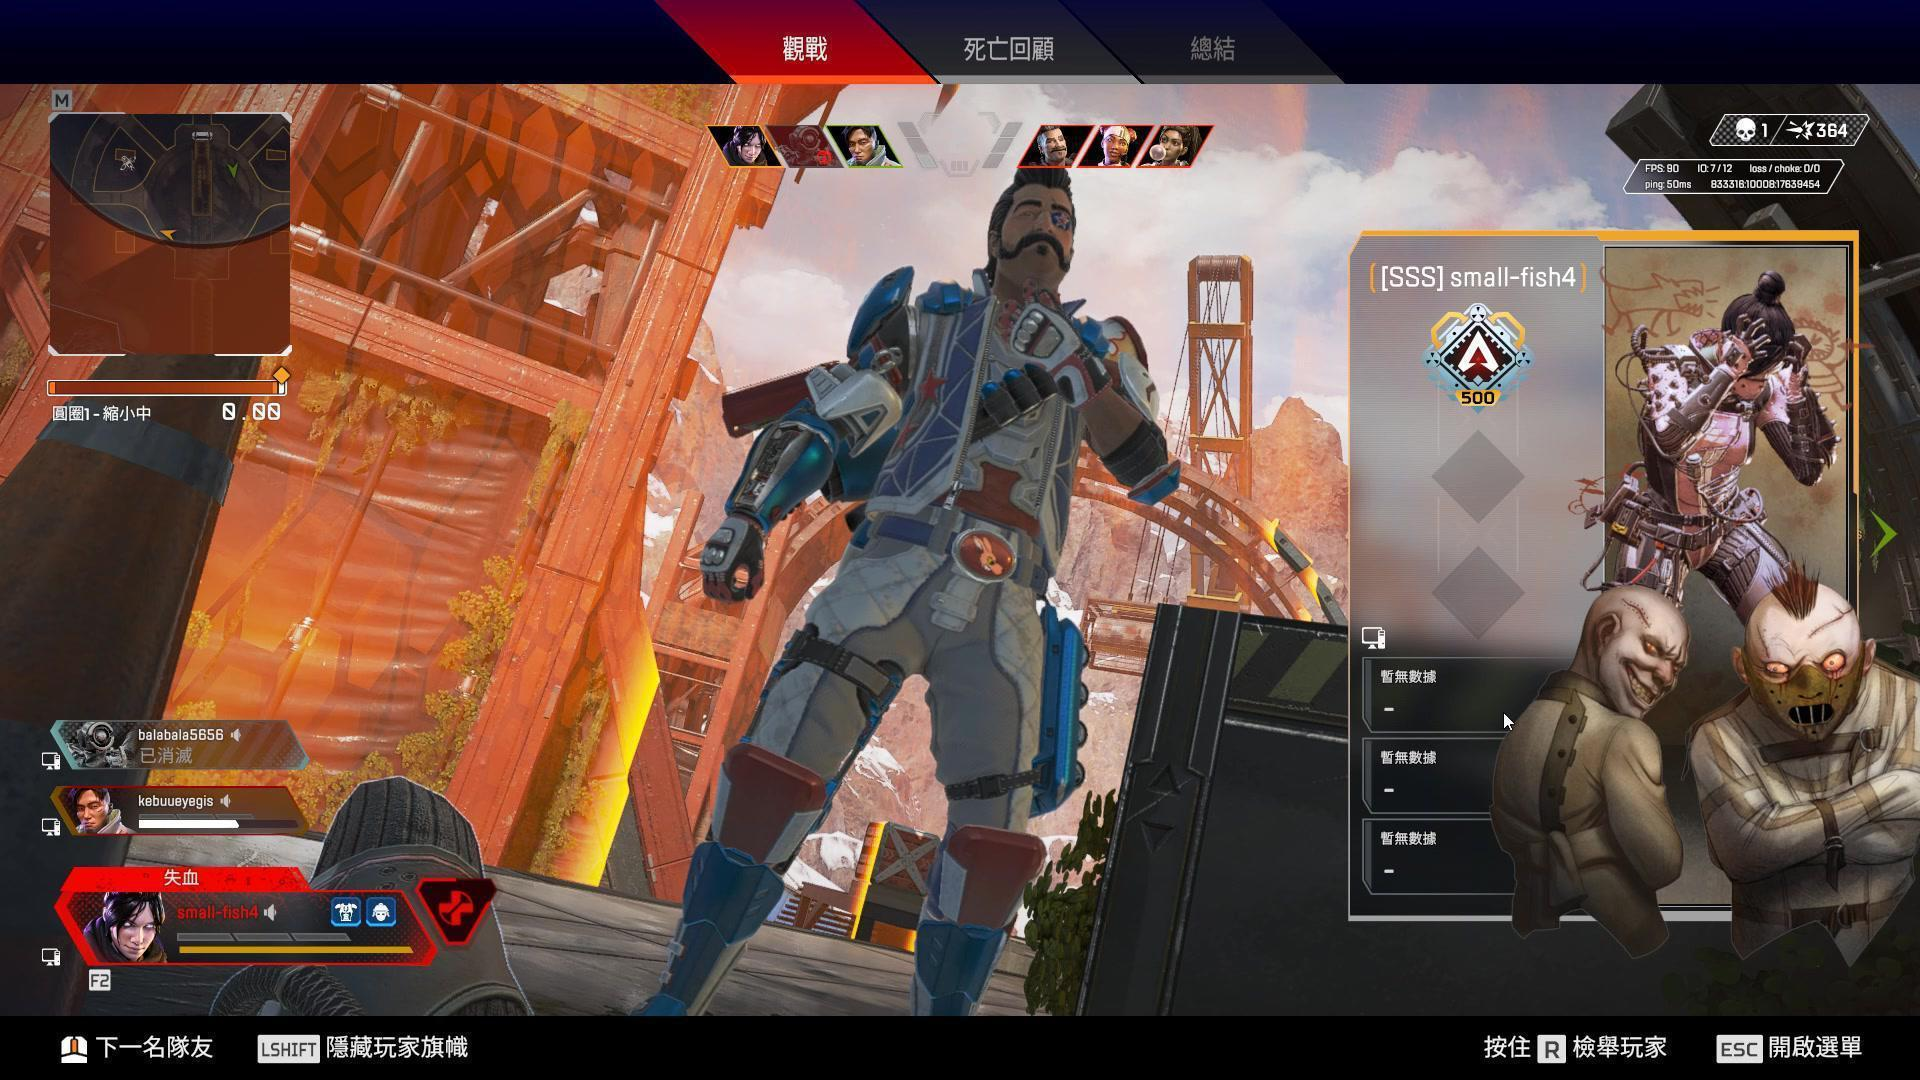avatar: (688, 164, 1186, 1011)
